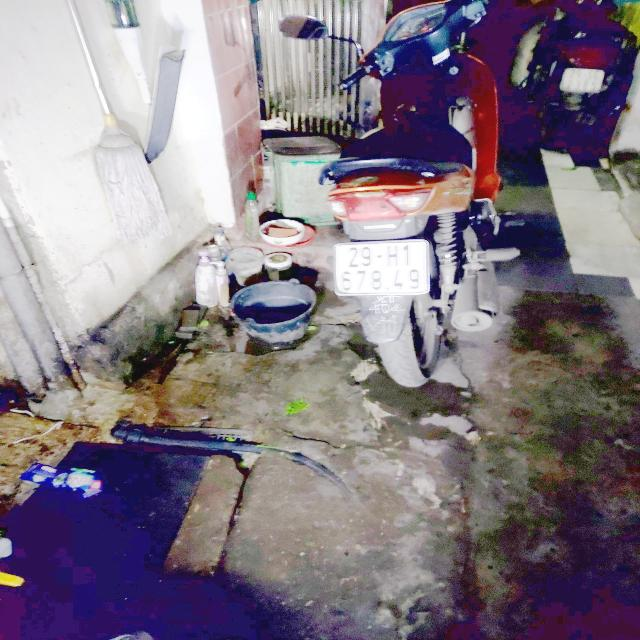license_plate: (328, 238, 437, 300)
